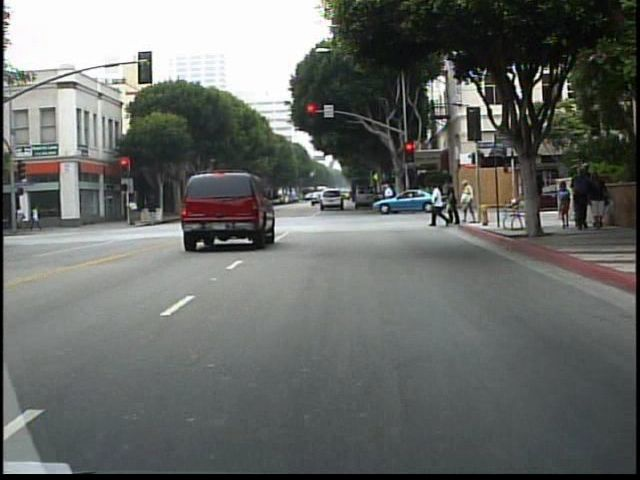person: (521, 168, 540, 228), (552, 179, 573, 233), (427, 182, 449, 229), (460, 179, 478, 228), (445, 181, 463, 227), (215, 182, 233, 227), (381, 179, 399, 217), (11, 200, 28, 235), (28, 200, 45, 235), (127, 195, 142, 226), (405, 182, 418, 215)
